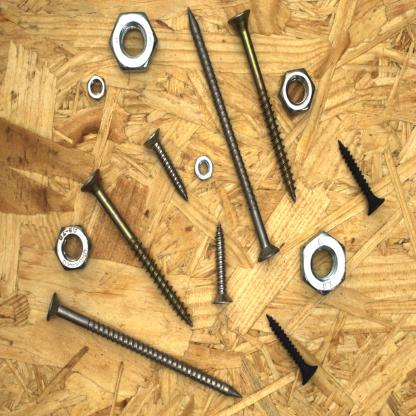screw: (184, 3, 284, 265), (44, 288, 245, 402), (78, 163, 197, 329), (225, 6, 300, 206), (263, 308, 320, 389), (336, 136, 388, 219), (141, 124, 191, 203), (210, 219, 235, 307)
